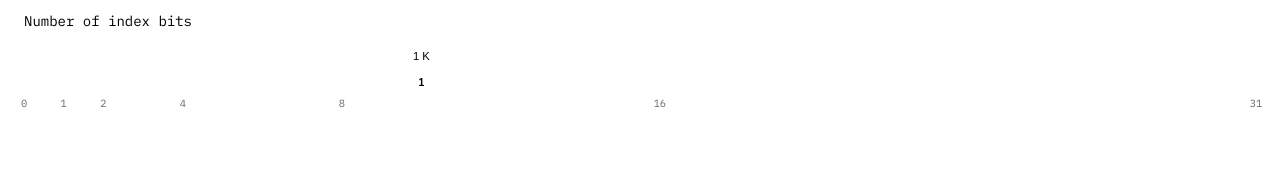
Test: HierarchySlider context menu › closes the menu on Escape
Right-click the button named "L1, 1 K": (421, 82) [407,68,435,96]
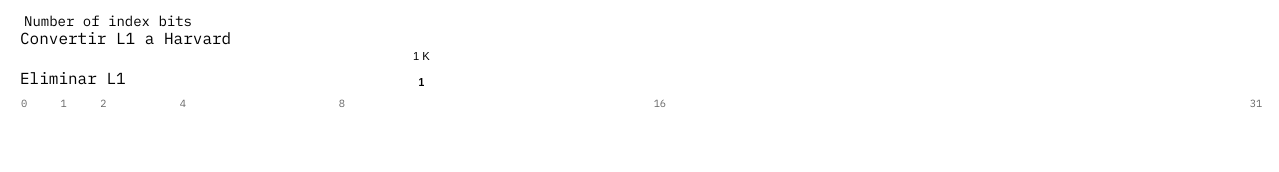
Check: the button "Eliminar L1" is shown, box [8,60,243,96]
Press Escape
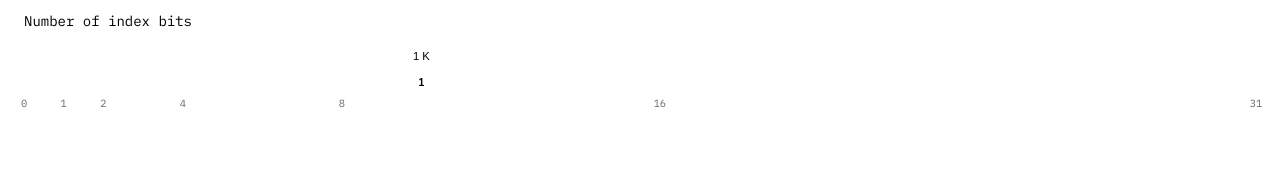
Check: the button "Eliminar L1" is gone
